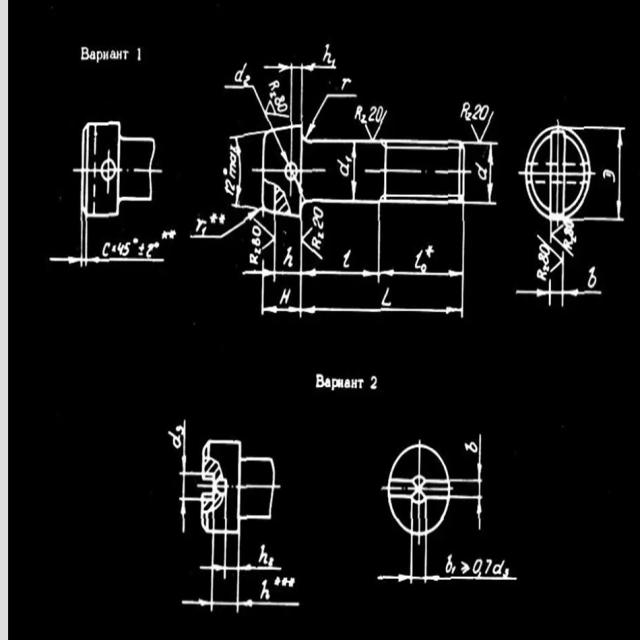marking_line: (180, 536, 301, 619), (512, 224, 604, 318), (378, 539, 518, 590), (234, 536, 301, 618), (226, 85, 288, 163), (259, 297, 466, 320), (263, 63, 335, 121), (83, 221, 168, 269), (593, 124, 626, 223), (239, 266, 464, 280), (182, 534, 220, 615), (176, 422, 200, 538), (561, 251, 602, 315), (184, 209, 258, 242), (306, 91, 357, 138), (231, 536, 280, 579), (228, 130, 254, 210), (466, 142, 499, 205), (303, 304, 461, 316), (47, 216, 84, 266), (451, 433, 483, 484), (178, 422, 200, 478), (197, 534, 225, 578), (452, 494, 483, 529), (516, 279, 553, 305), (536, 235, 562, 272), (380, 267, 461, 278), (178, 494, 198, 533), (553, 223, 576, 255), (304, 269, 377, 279), (241, 263, 272, 281), (272, 132, 288, 163), (350, 143, 358, 198), (265, 305, 301, 314), (503, 567, 510, 576)
numeric: (463, 442, 478, 454), (369, 373, 379, 390), (473, 557, 483, 574), (479, 105, 490, 120), (312, 217, 324, 230), (375, 103, 383, 122), (313, 206, 324, 219), (484, 557, 492, 574), (225, 179, 237, 190), (368, 107, 375, 123), (473, 104, 479, 121), (275, 94, 284, 105), (136, 47, 143, 61), (278, 102, 288, 111), (225, 188, 233, 198), (175, 425, 183, 435), (244, 74, 250, 85), (345, 156, 352, 164)
special_symbol: (470, 110, 495, 140), (303, 225, 323, 261), (253, 218, 273, 254), (364, 111, 387, 140), (458, 559, 470, 574), (425, 244, 434, 258), (209, 211, 217, 224), (288, 576, 296, 588), (169, 229, 176, 240), (162, 229, 169, 239), (281, 576, 287, 587), (220, 213, 226, 224), (274, 576, 280, 586)
